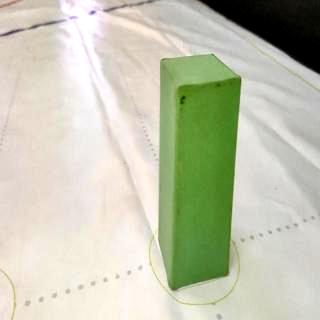greenbox: (159, 52, 242, 291)
